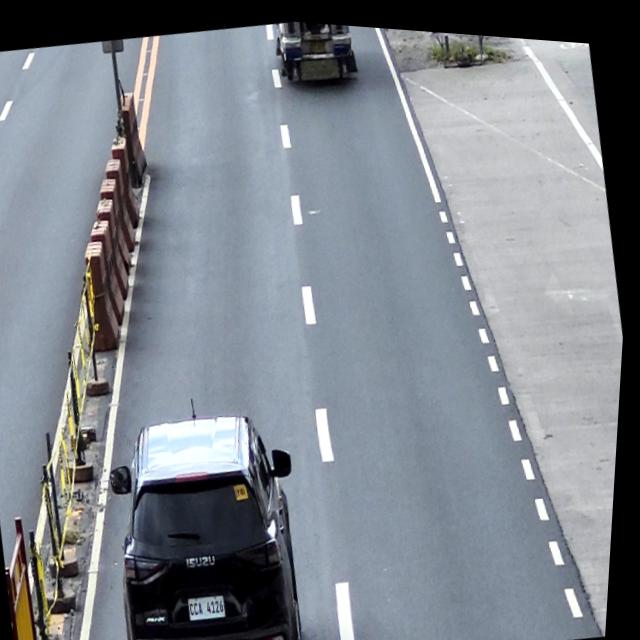Car: (94, 379, 334, 640)
Jeep: (267, 16, 361, 87)
License-Plate: (191, 584, 235, 621)
